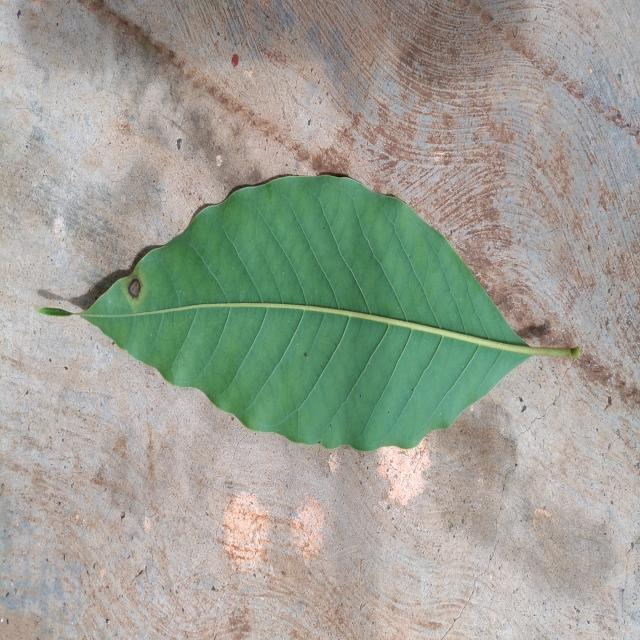coffee leaf rust: (82, 176, 531, 451)
